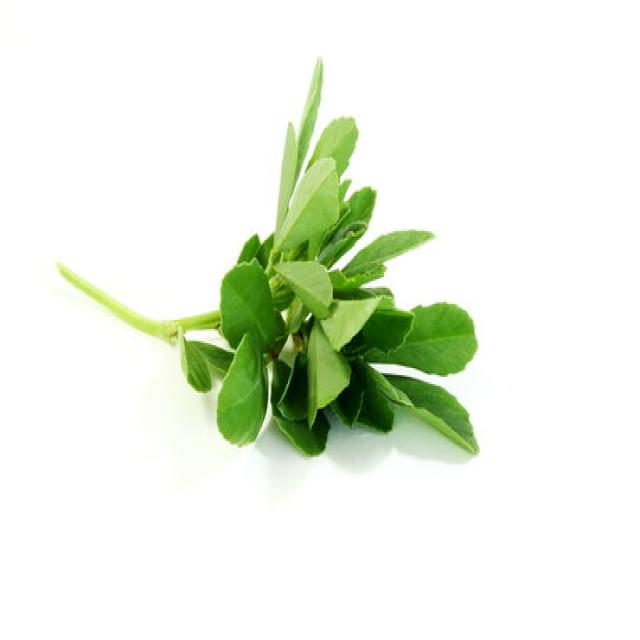Fenugreek: (56, 55, 480, 459)
